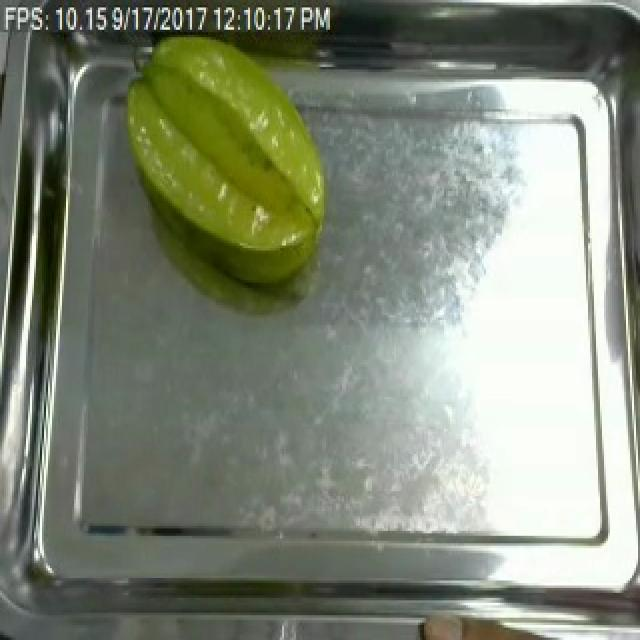fruit: (112, 25, 336, 260)
